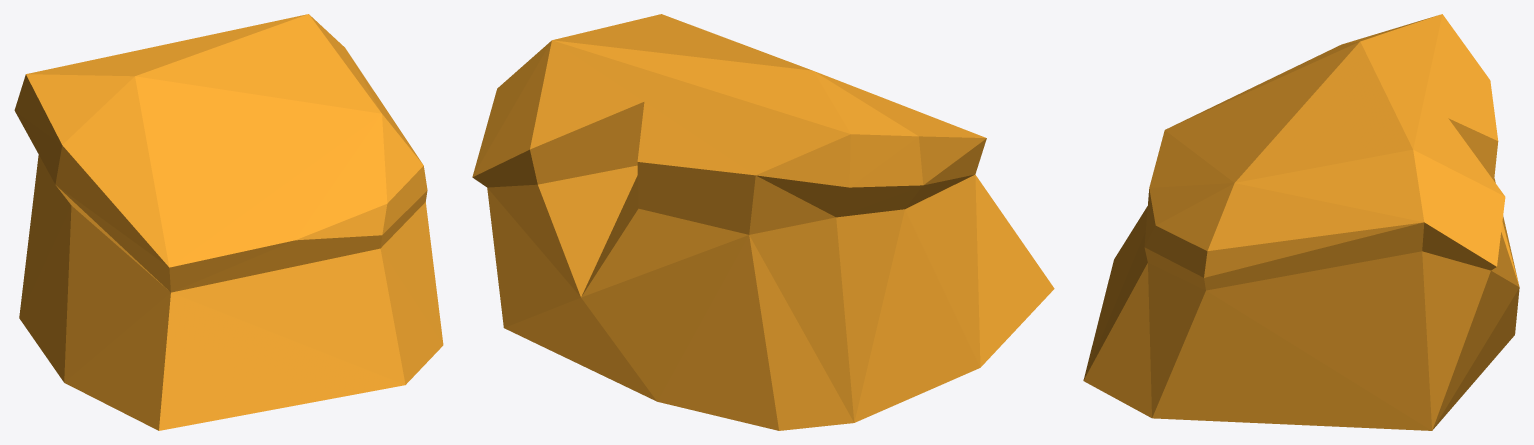
The model's file is SM_Stone_B_Snow.fbx.
The picture shows the model from 3 angles, left to right: view 1: azimuth 30°, elevation 25°; view 2: azimuth 150°, elevation 25°; view 3: azimuth 270°, elevation 25°; orthographic projection. The views are drawn at different scales.
Visible parts, largest first — view 1: stone-b-snow; view 2: stone-b-snow; view 3: stone-b-snow.
Part boxes in pixels (box(x1,y1,x2,y2)): stone-b-snow: box(14, 14, 443, 430); stone-b-snow: box(472, 14, 1054, 430); stone-b-snow: box(1083, 14, 1519, 430).
Bounding box in the file's own units: 0.2758 × 0.1935 × 0.2809.
